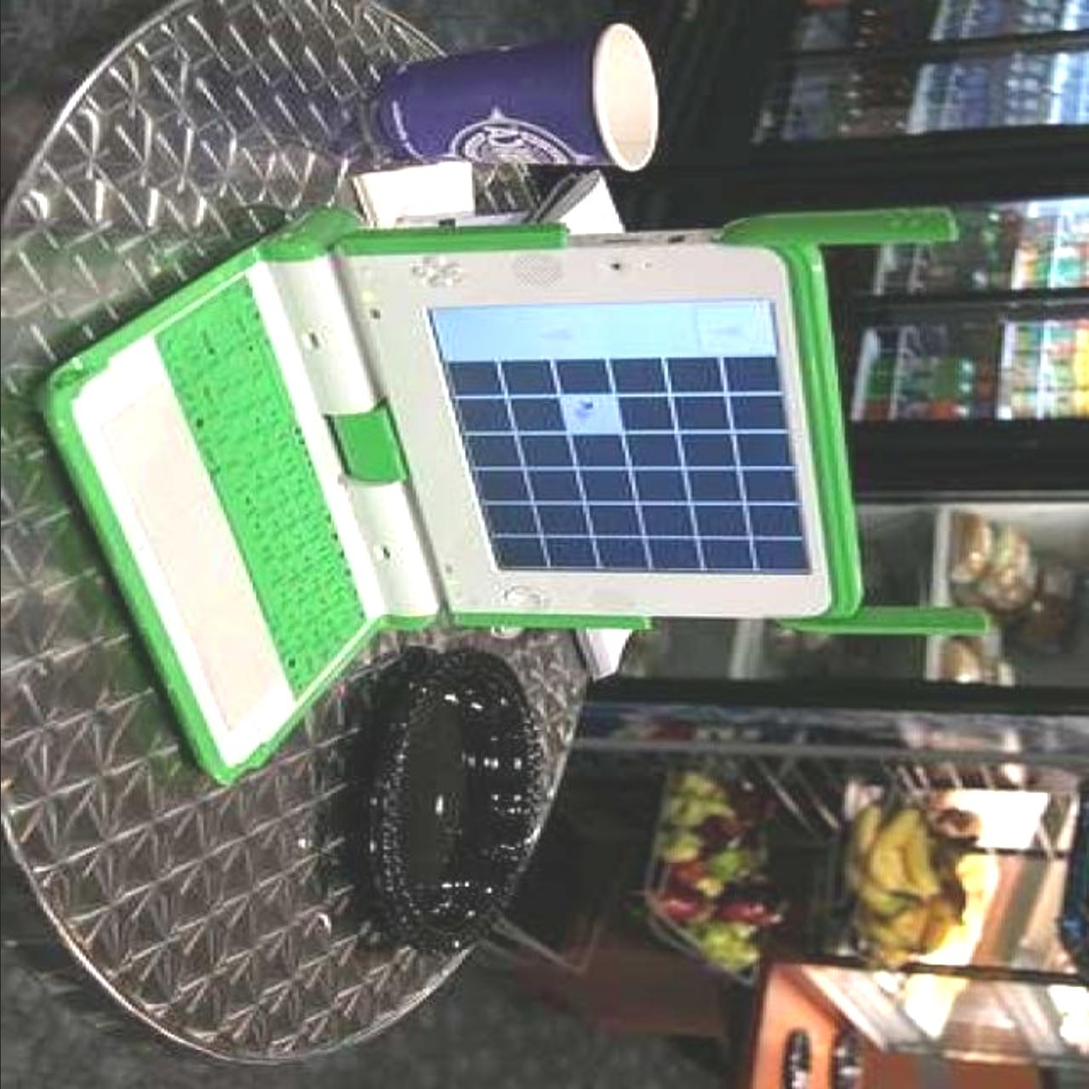laptop: (43, 204, 842, 762)
